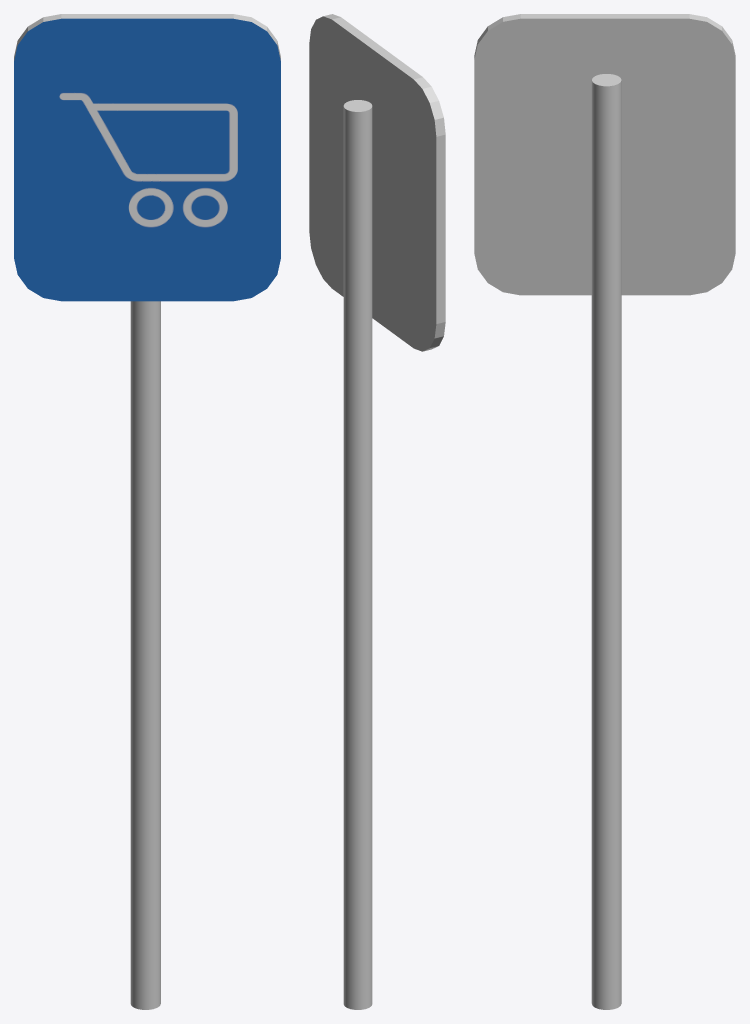
The model's file is caddy_pannel.fbx.
3 renders of one model, left to right at view 1: azimuth 90°, elevation 25°; view 2: azimuth 210°, elevation 25°; view 3: azimuth 270°, elevation 25°, orthographic. The views are drawn at different scales.
Visible parts, largest first — view 1: Cylinder; view 2: Cylinder; view 3: Cylinder.
Part boxes in pixels (<box>): Cylinder: <box>14,14,280,1009</box>; Cylinder: <box>309,14,445,1009</box>; Cylinder: <box>474,14,735,1009</box>.
Bounding box in the file's own units: 8.65 × 210 × 51.02.
